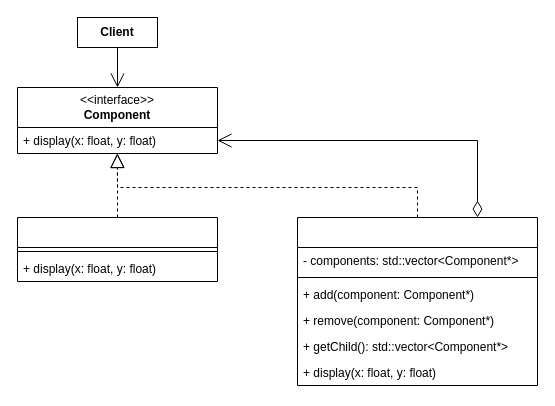
Some shapes in this 555 by 406 pixel diagram are drawn without their labels. The shapes that lost their labels are listed below. From the top down, each one's box as (x1, y1, x2, y2) in pixels, then its label:
(16, 216, 218, 282): LabelComponent
(296, 216, 538, 386): CompositeComponent
